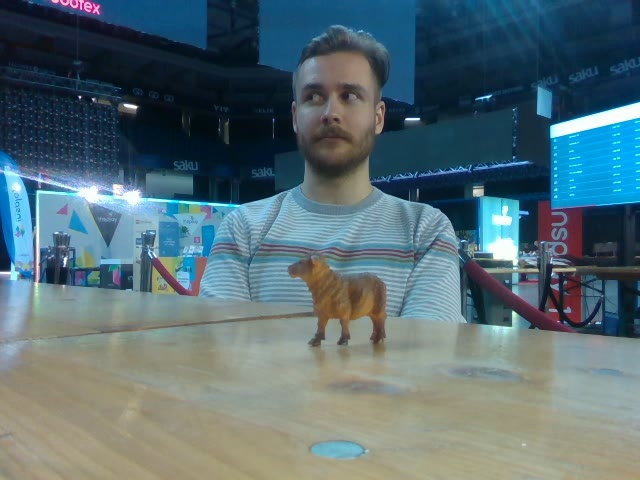toy: (287, 253, 388, 346)
